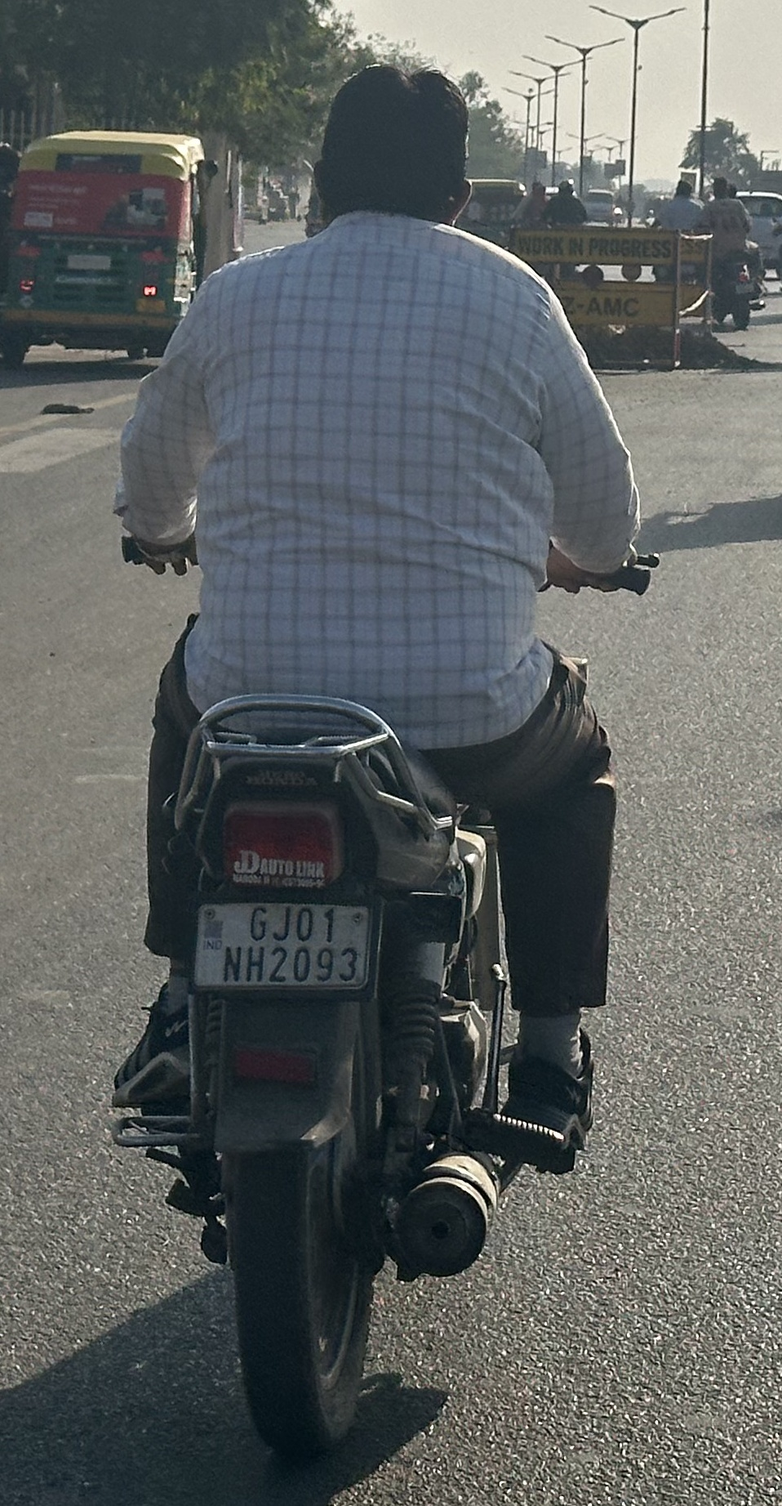BikeWithRider: (105, 10, 673, 1506)
NoHelmet: (278, 42, 523, 248)
